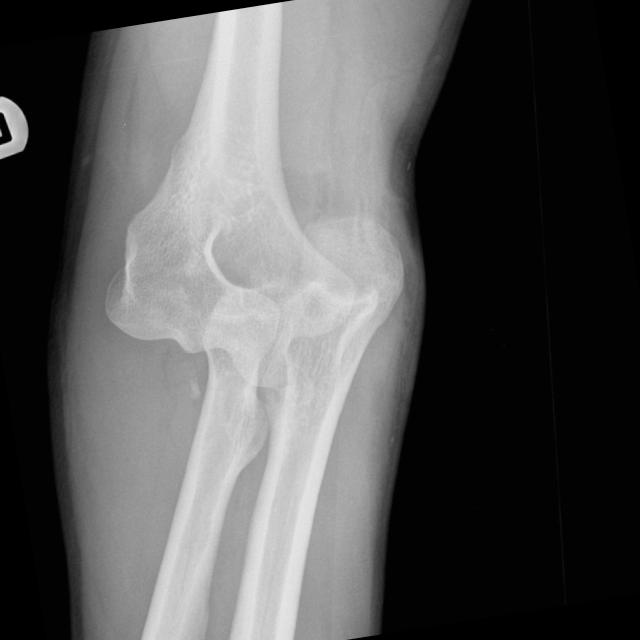elbow positive: (172, 190, 426, 425)
